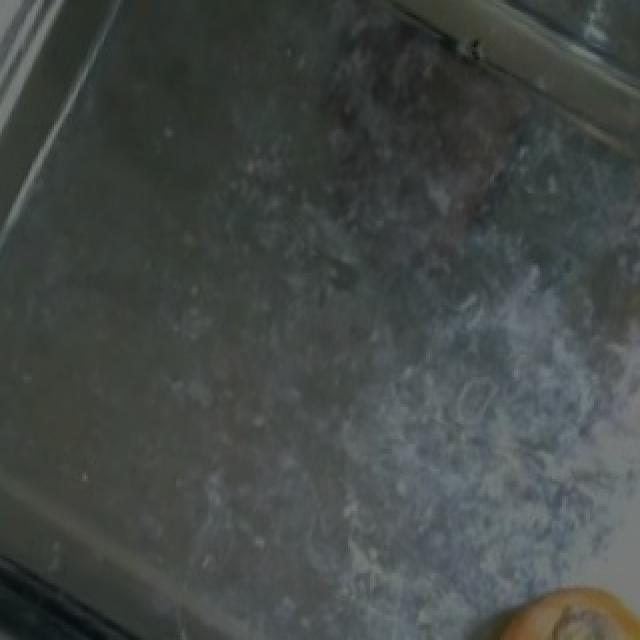Fruit: (470, 573, 640, 638)
